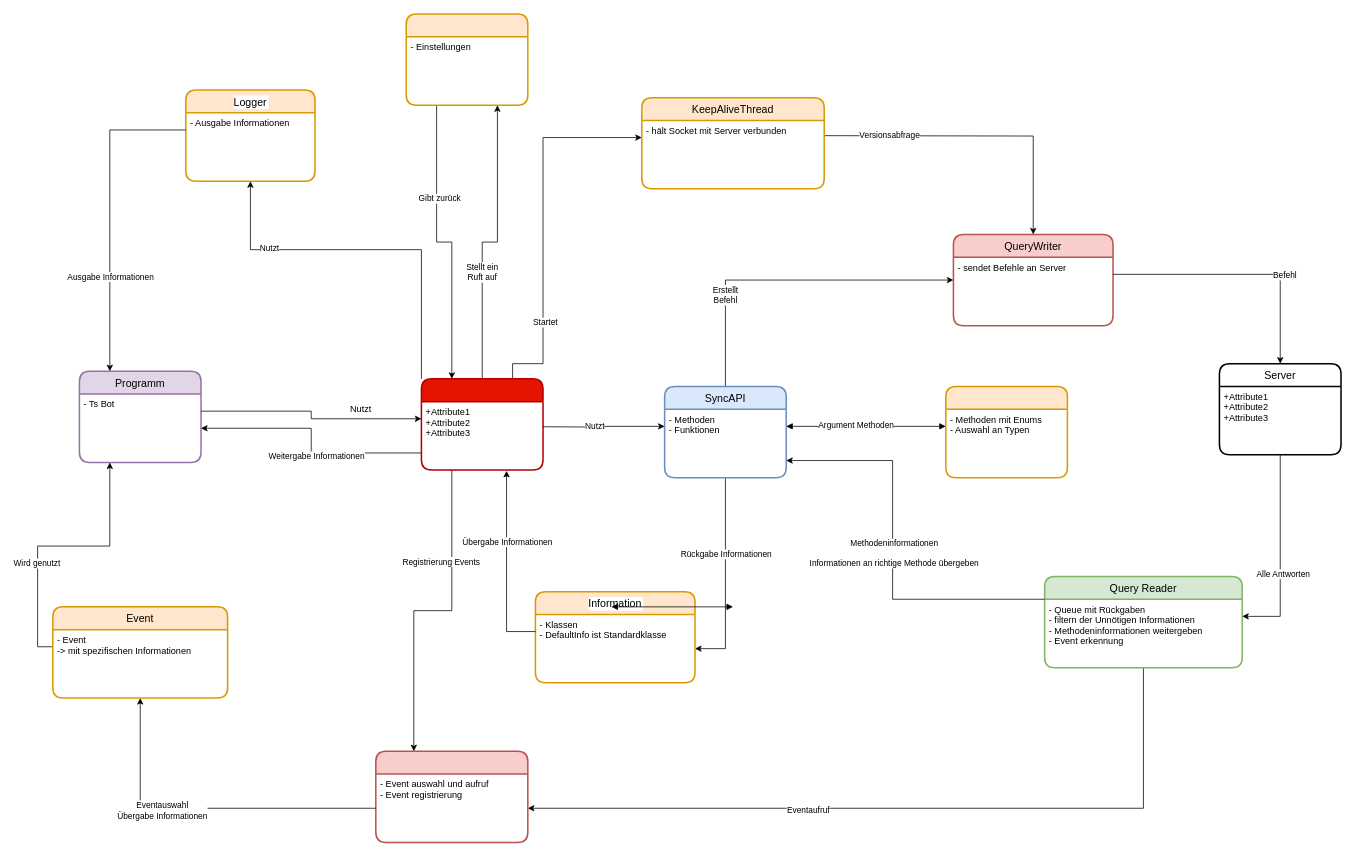
Image size: 1355x856. Some labels were removed from this diagram. Here are the shapes that lost their labels. From the top down, the box of each, then its label:
(405, 13, 528, 106): Config
(420, 378, 543, 470): ServerQuery
(945, 385, 1068, 478): Property
(375, 750, 528, 843): EventManager
